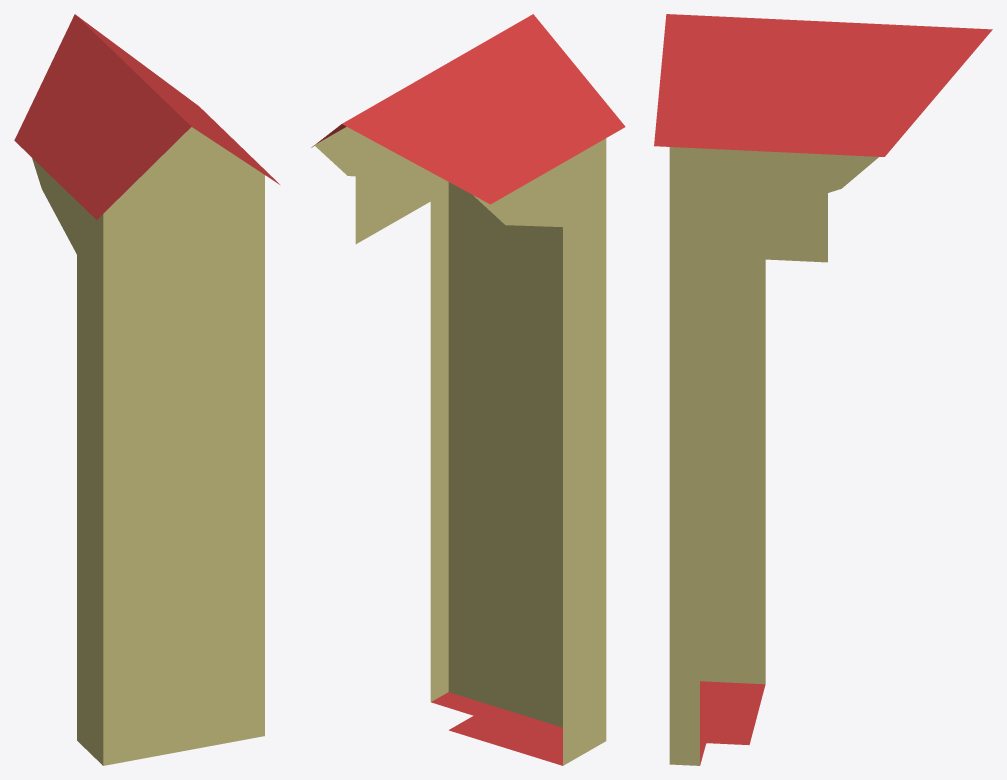
3 renders of one model, left to right at view 1: azimuth 30°, elevation 25°; view 2: azimuth 150°, elevation 25°; view 3: azimuth 270°, elevation 25°, orthographic. The views are drawn at different scales.
Size of the model in its own units: 4.42 by 5.95 by 13.73.
